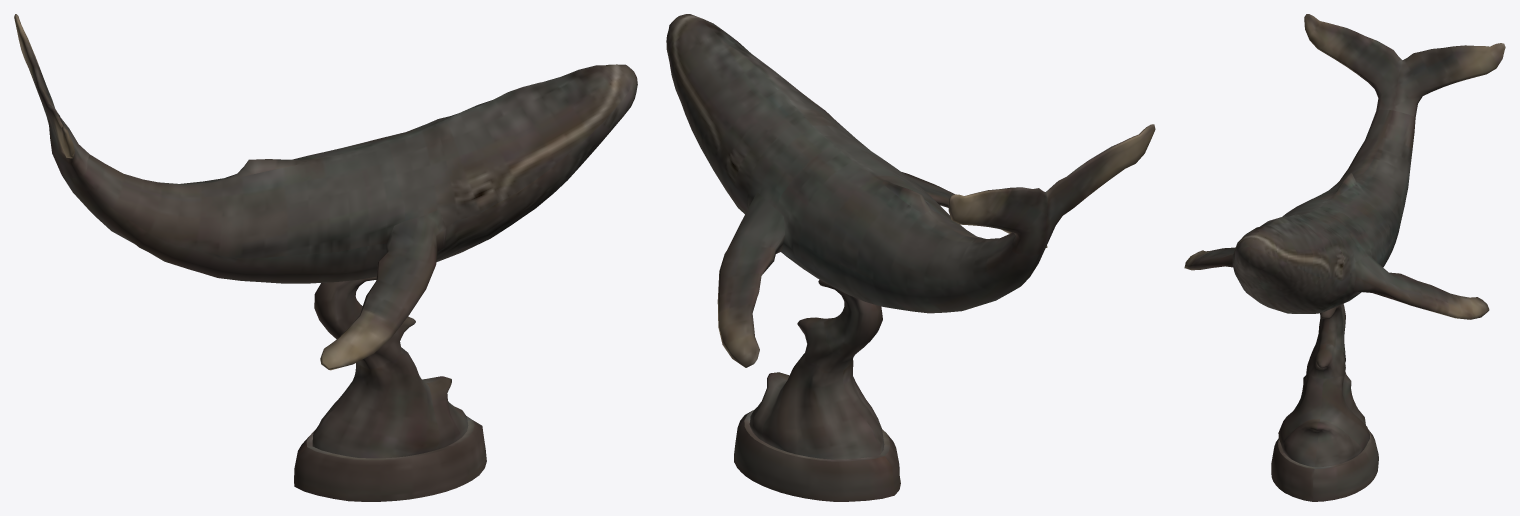
File: naga_lo.glb
3 renders of one model, left to right at view 1: azimuth 30°, elevation 25°; view 2: azimuth 150°, elevation 25°; view 3: azimuth 270°, elevation 25°, orthographic. The views are drawn at different scales.
Visible parts, largest first — view 1: bronze_whale_statue; view 2: bronze_whale_statue; view 3: bronze_whale_statue.
Boxes of the visible parts, x1=… form: bronze_whale_statue: x1=14, y1=14, x2=637, y2=501; bronze_whale_statue: x1=666, y1=14, x2=1155, y2=501; bronze_whale_statue: x1=1184, y1=14, x2=1505, y2=501.
Size of the model in its own units: 1.39 by 1.07 by 0.9443.
1 material, 1 textured.
